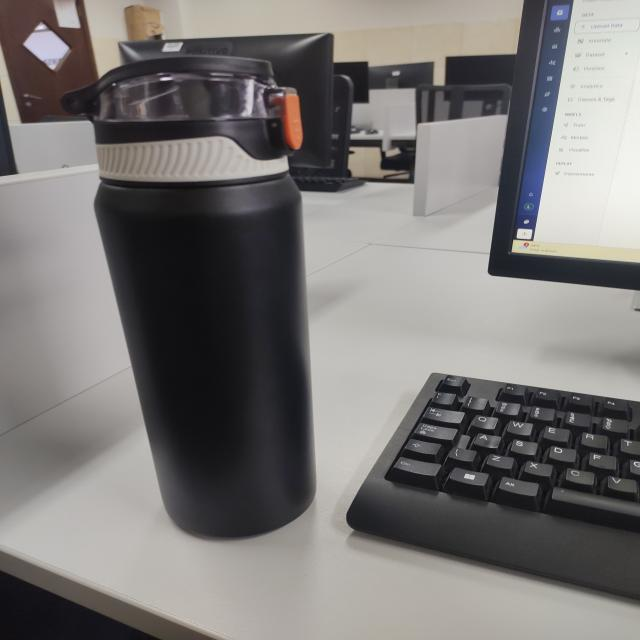Garrafa: (58, 27, 396, 555)
